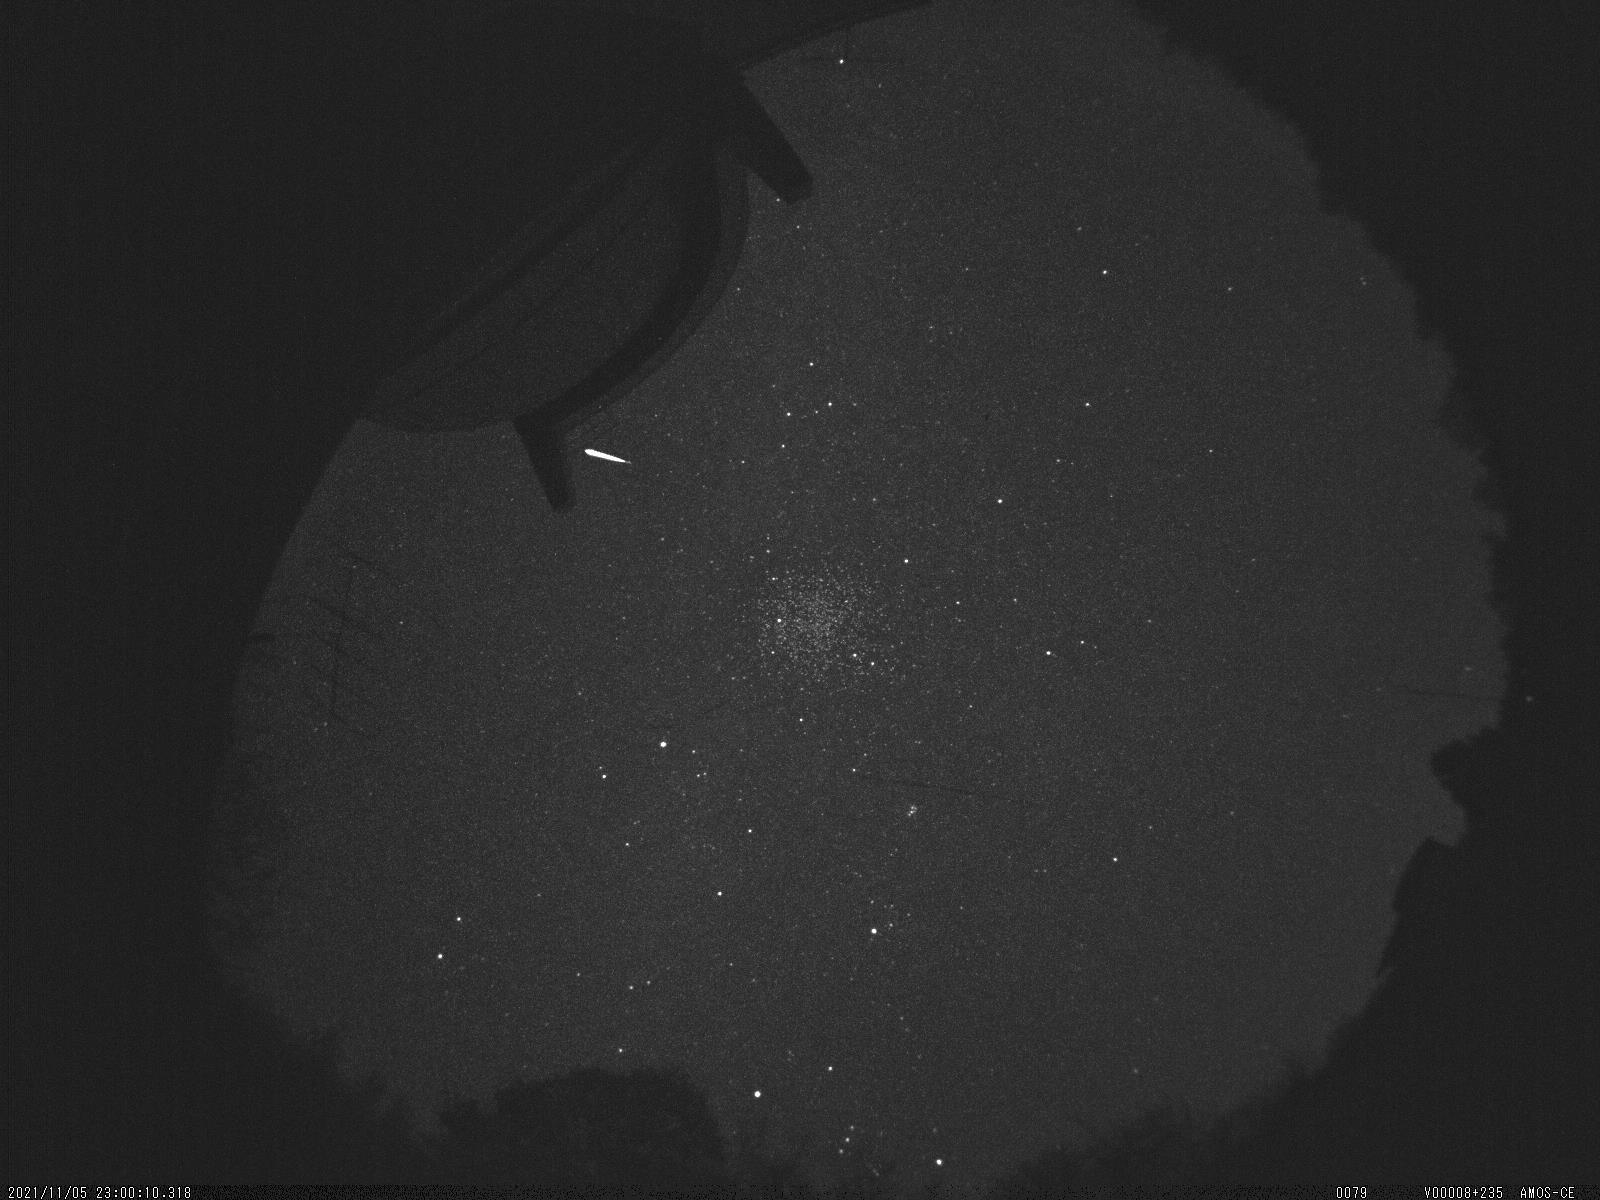Meteor: (581, 439, 643, 474)
